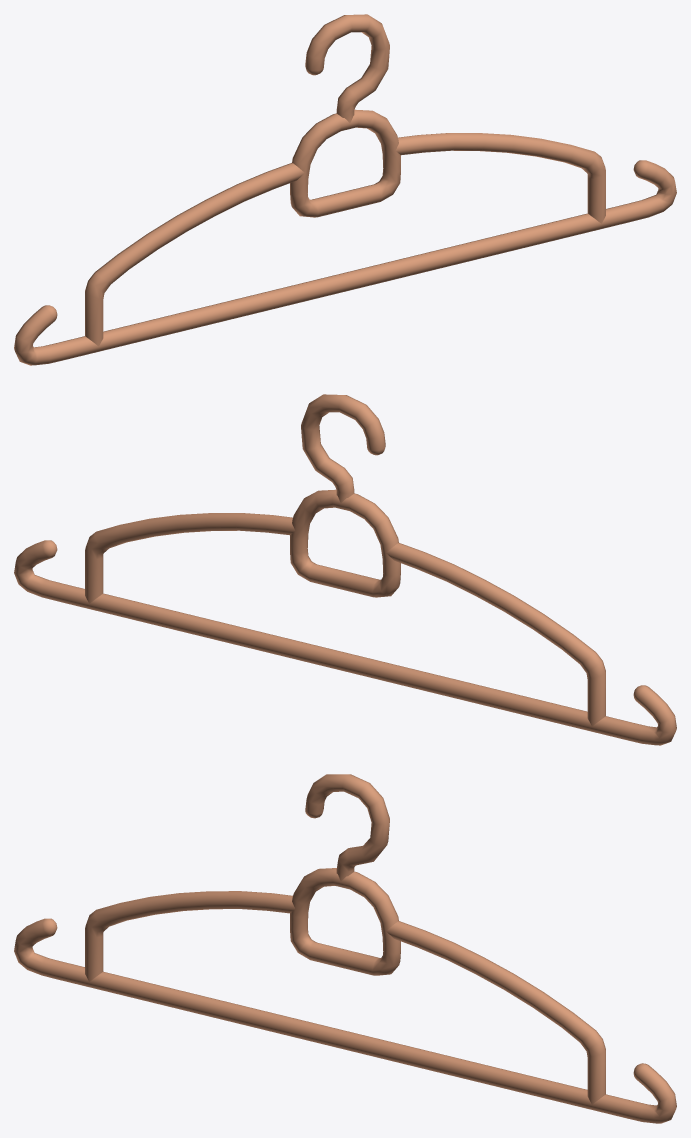
Rendered from clothes_hanger_orange.FBX.
3 views of the same model, one above another, from view 1: azimuth 30°, elevation 25°; view 2: azimuth 150°, elevation 25°; view 3: azimuth 330°, elevation 25° (orthographic).
Visible parts, largest first — view 1: clothes_hanger_orange; view 2: clothes_hanger_orange; view 3: clothes_hanger_orange.
Boxes of the visible parts, x1,y1,x2,y2 form: clothes_hanger_orange: [14, 14, 676, 365]; clothes_hanger_orange: [14, 394, 676, 745]; clothes_hanger_orange: [14, 774, 676, 1123].
Bounding box in the file's own units: 57.02 × 22.69 × 1.44.
Materials: 1 (1 with a texture image).
